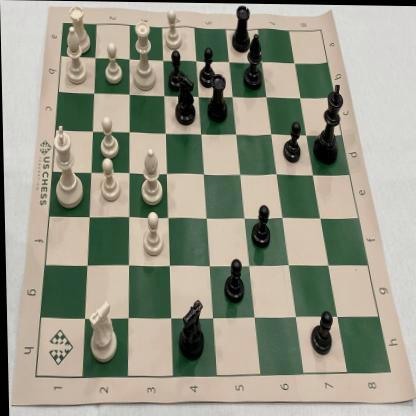black-bishop: (240, 30, 266, 92)
black-king: (308, 76, 348, 166)
black-knight: (172, 294, 207, 362), (171, 71, 199, 128)
black-pawn: (306, 301, 335, 359), (246, 198, 274, 251), (221, 254, 245, 306), (278, 116, 303, 165), (196, 42, 218, 90), (166, 43, 186, 94)
black-rook: (226, 3, 254, 56), (204, 72, 232, 124)
white-bishop: (62, 24, 90, 88), (137, 144, 165, 208)
white-king: (49, 122, 87, 212)
white-knight: (83, 296, 120, 366)
white-pawn: (97, 154, 122, 206), (139, 208, 164, 260), (97, 113, 121, 162), (101, 40, 124, 86), (162, 6, 184, 52)
white-queen: (130, 16, 158, 92)
white-rook: (68, 1, 94, 56)
